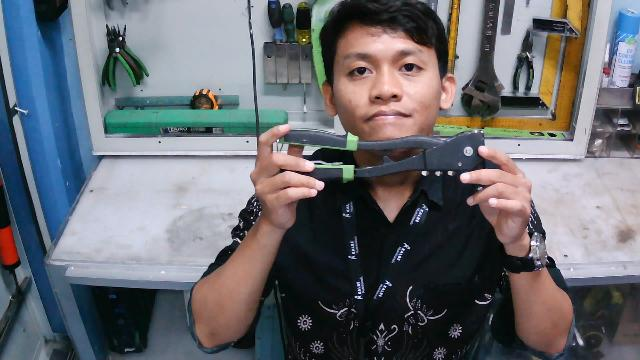tang_rivet: (278, 123, 489, 188)
